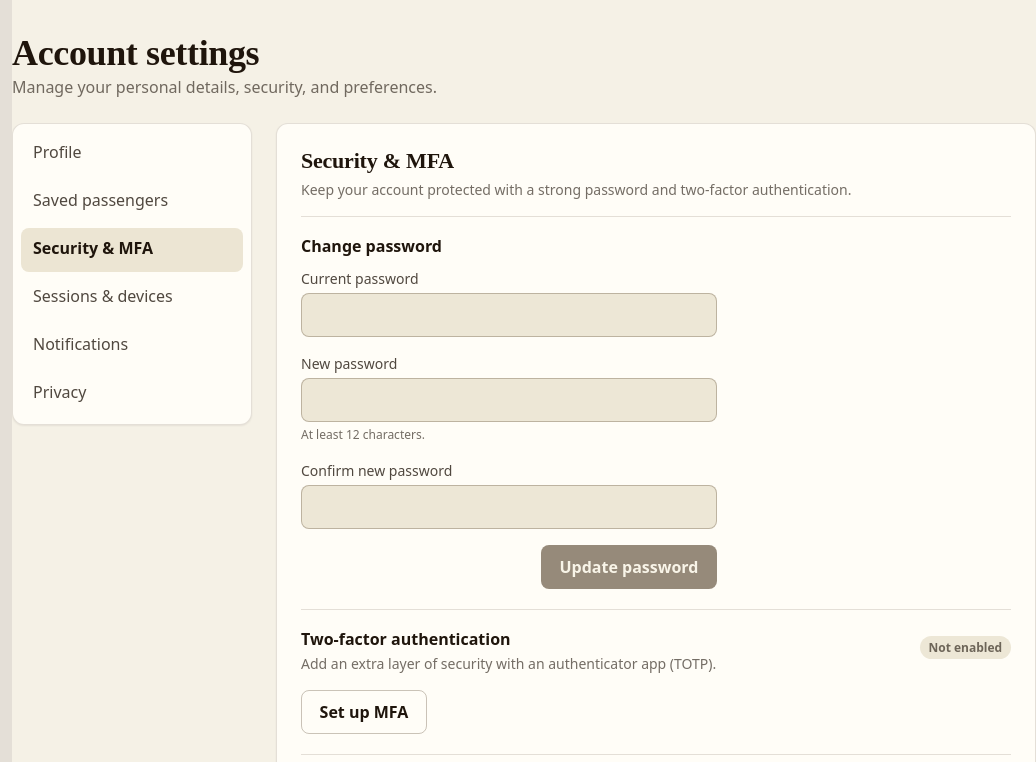
Test case: ProfilePage — security section (change password) › shows the server error inline (e.g. wrong current password)
Type "WrongPassword123!" into the password field with id "currentPassword" at (509, 315), box [301,293,717,337]
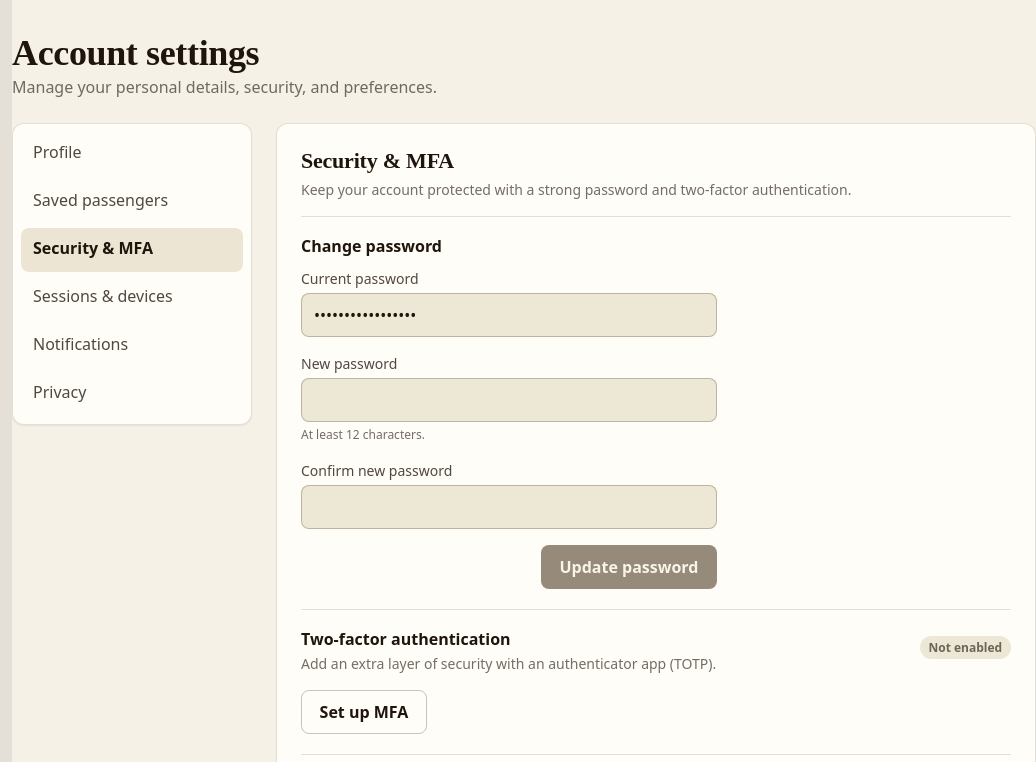
Type "NewPassword123!" into the password field with id "newPassword" at (509, 400), box [301,378,717,422]
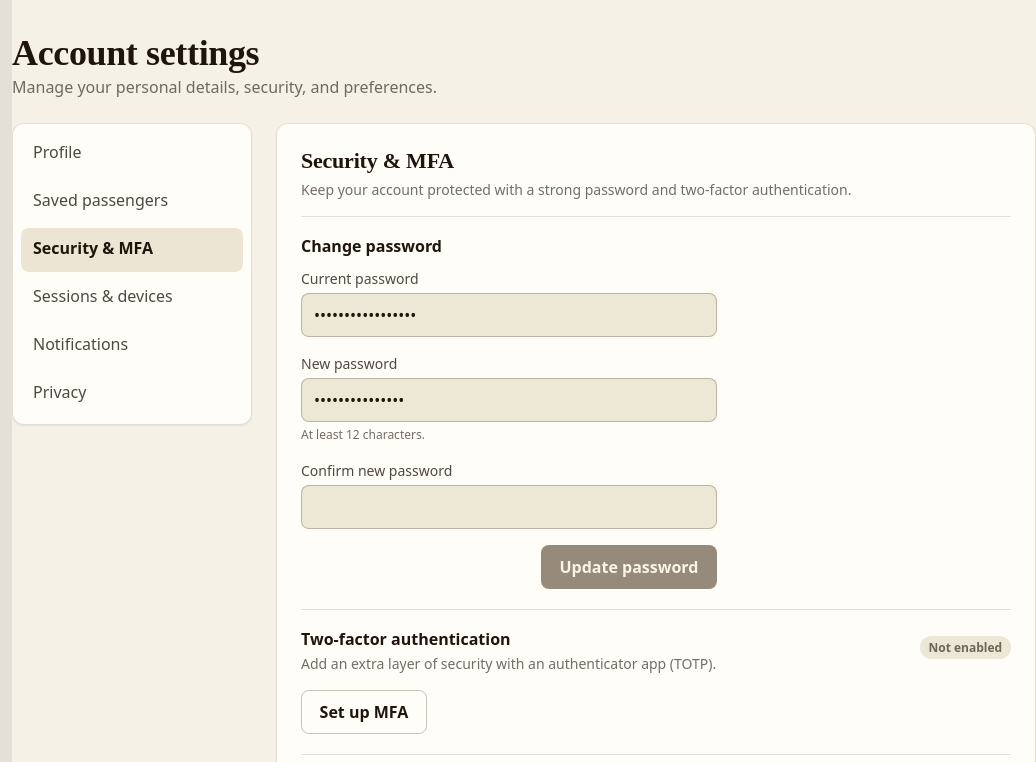
Type "NewPassword123!" into the password field with id "confirmNewPassword" at (509, 507), box [301,485,717,529]
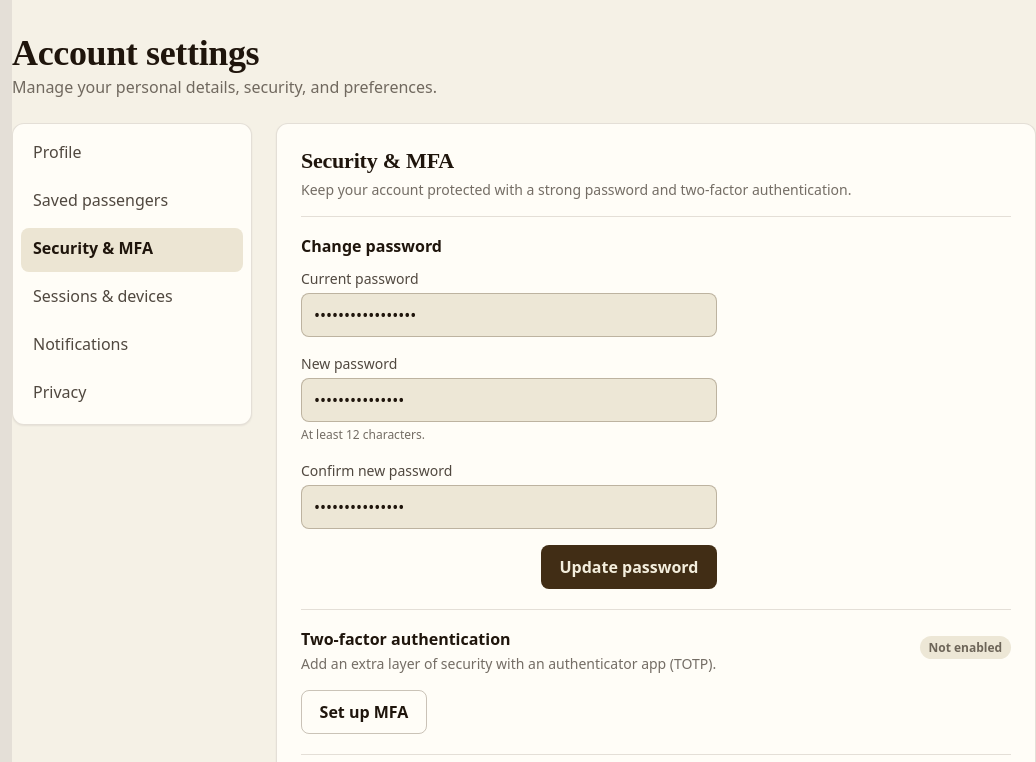
Submit the form, box [301,268,717,589]
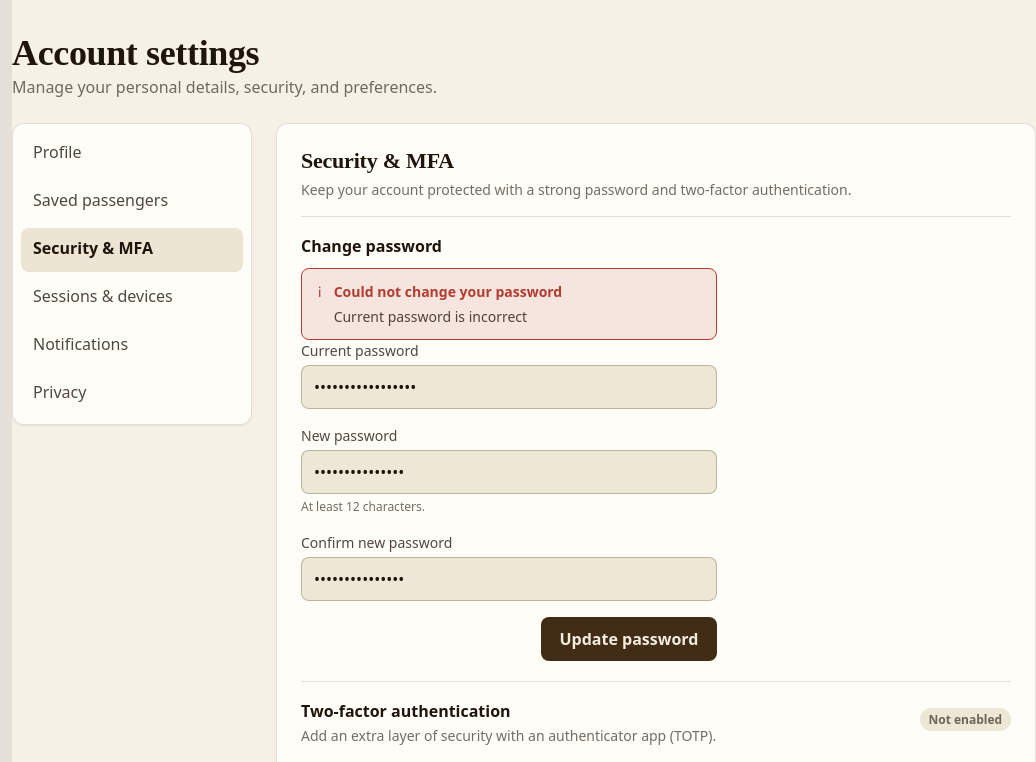
Check: the text "Current password is incorrect" is shown, box [334,307,527,326]
